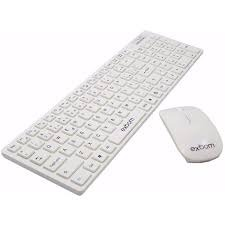keyboard: (0, 30, 206, 189)
mouse: (159, 106, 225, 166)
